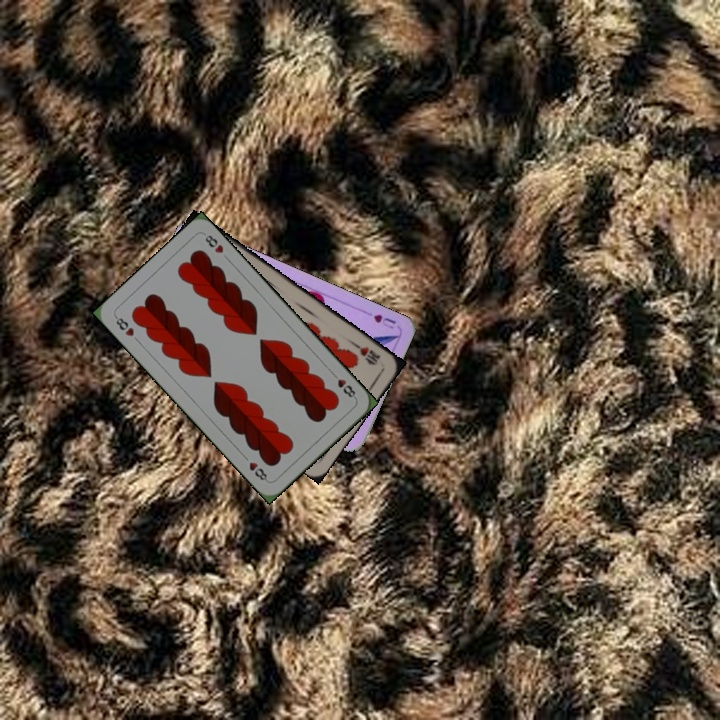H10: (349, 339, 383, 368)
H8: (327, 368, 359, 401), (111, 312, 136, 339)
HU: (369, 310, 398, 332)
